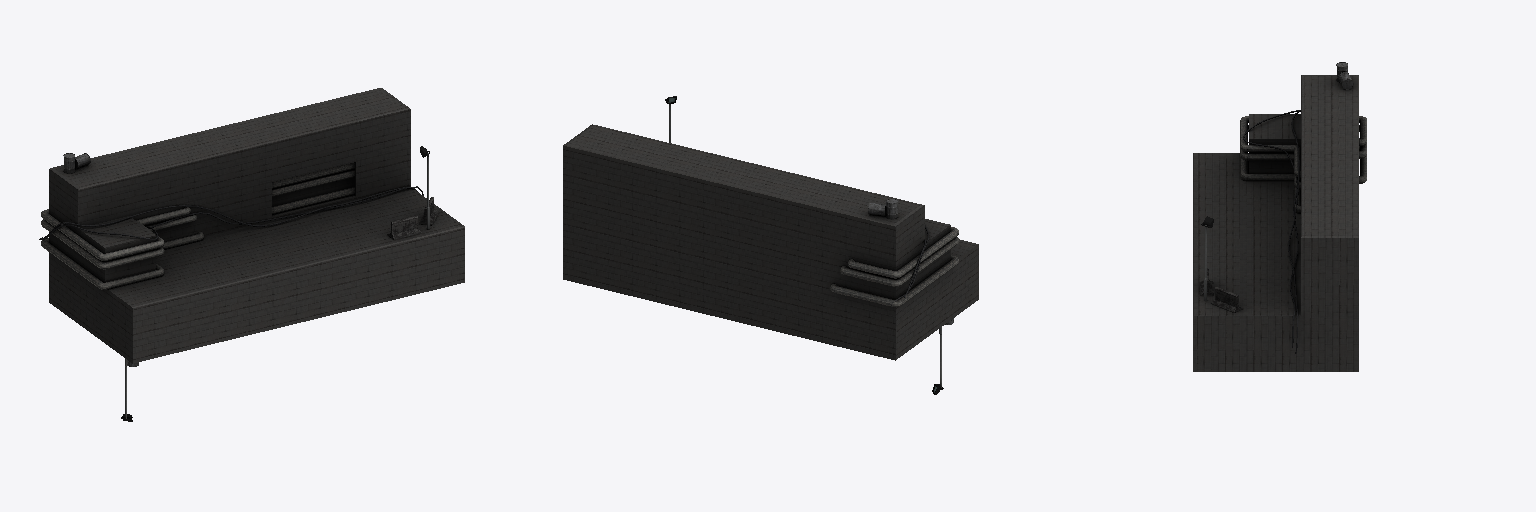
3 renders of one model, left to right at view 1: azimuth 30°, elevation 25°; view 2: azimuth 150°, elevation 25°; view 3: azimuth 270°, elevation 25°, orthographic.
Visible parts, largest first — view 1: polySurface82 polySurface70 polySurface65 polySurface52; view 2: polySurface82 polySurface70 polySurface65 polySurface52; view 3: polySurface82 polySurface70 polySurface65 polySurface52.
Part boxes in pixels (x1,y1,x2,y2): polySurface82 polySurface70 polySurface65 polySurface52: (39,88,464,421); polySurface82 polySurface70 polySurface65 polySurface52: (563,96,978,394); polySurface82 polySurface70 polySurface65 polySurface52: (1193,62,1366,371).
Size of the model in its own units: 394 by 245 by 168.
Materials: 1 (1 with a texture image).